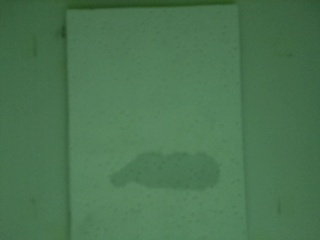Water_detected: (115, 151, 211, 191)
